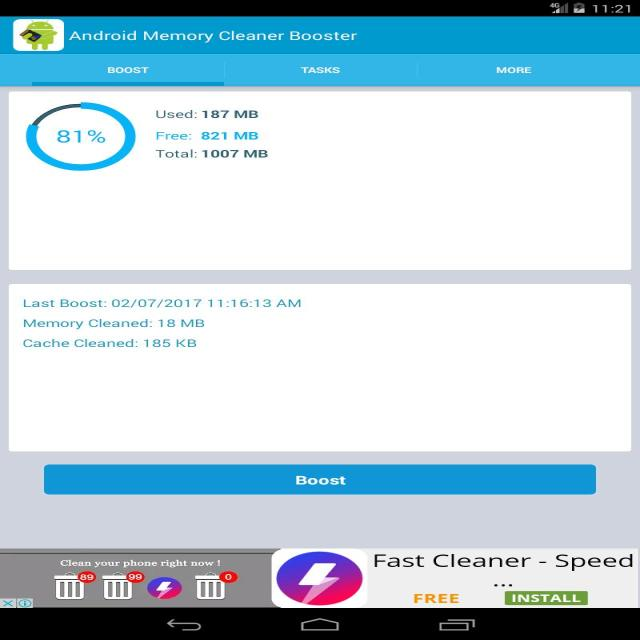button: (45, 461, 597, 494), (422, 55, 639, 85), (225, 55, 420, 85), (30, 54, 224, 84)
heading: (67, 28, 366, 47)
iframe: (0, 552, 640, 609)
image: (22, 99, 140, 174), (15, 20, 64, 50)
text: (16, 294, 314, 353), (152, 106, 279, 168)
